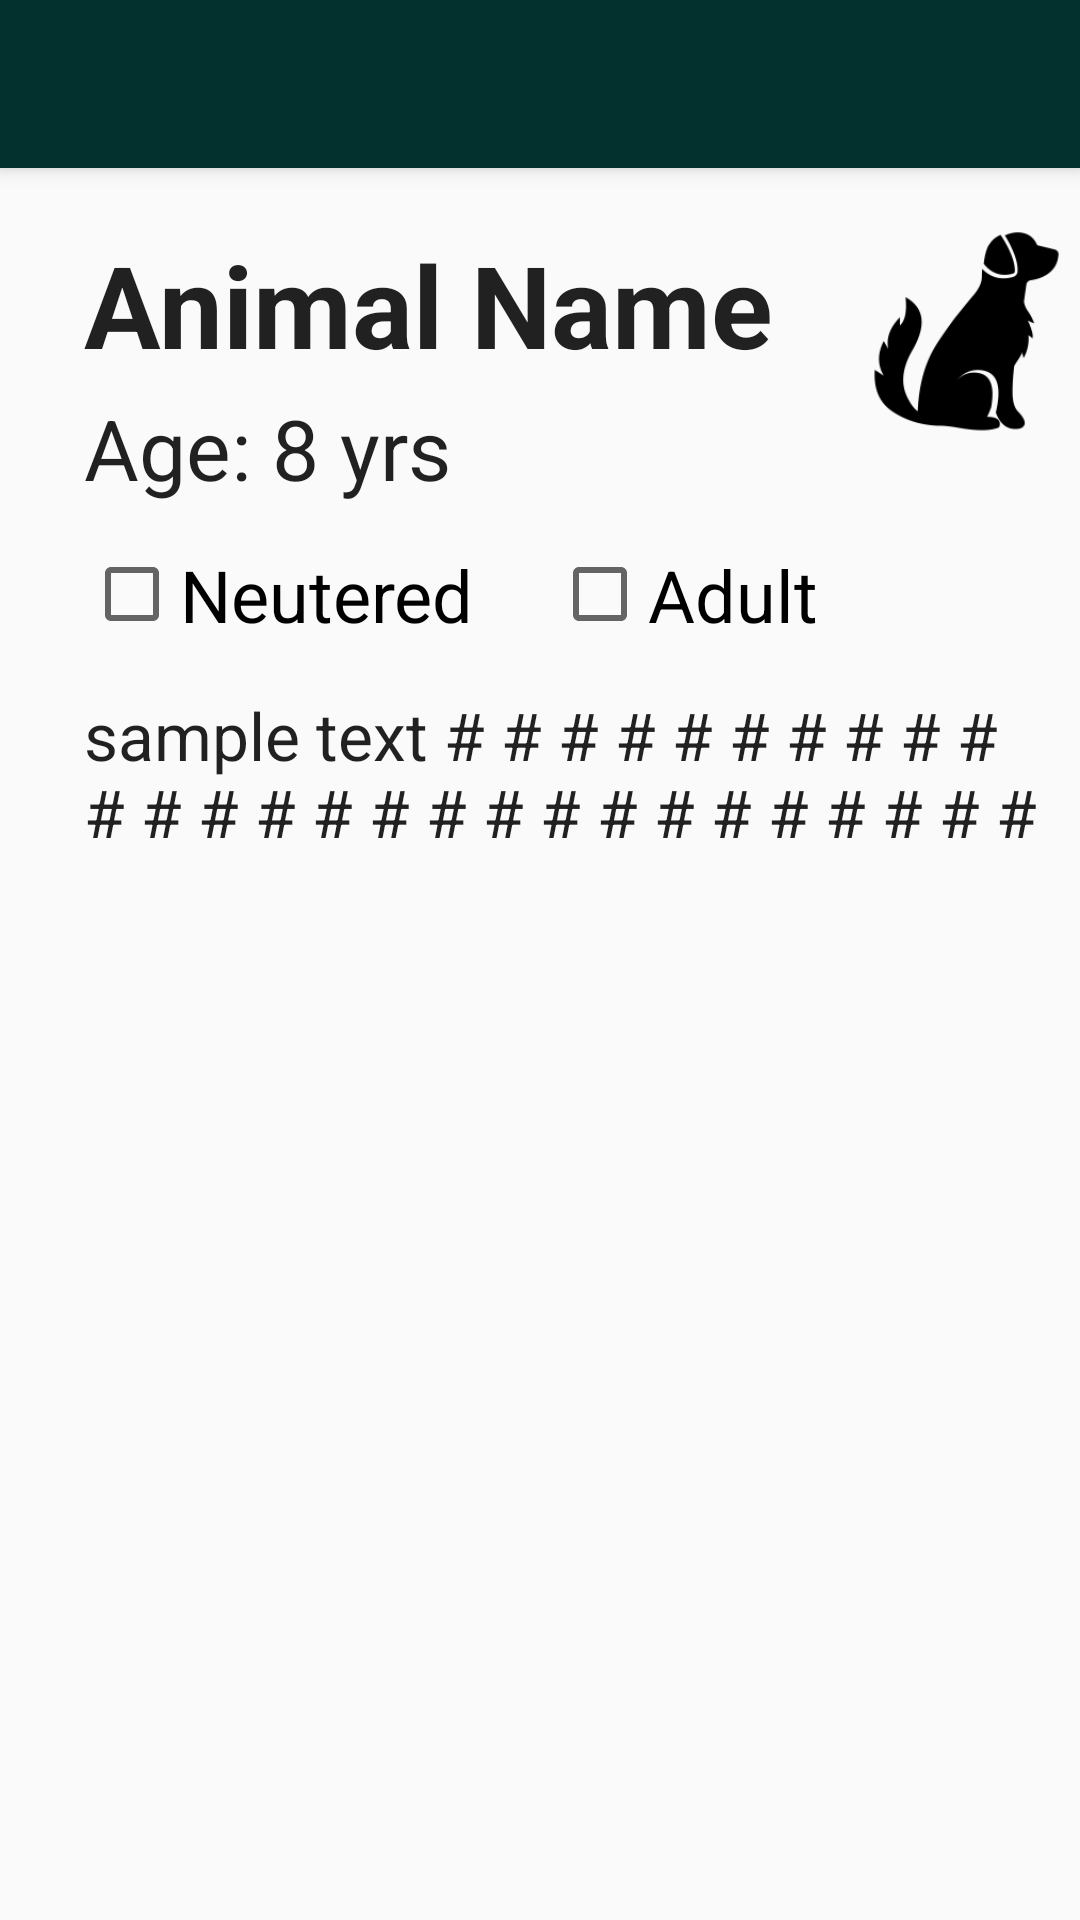

Screen size 1080*1920. Icon name, then its box in pixels as (x1, y1, x2, y2):
dog: (874, 232, 1059, 431)
